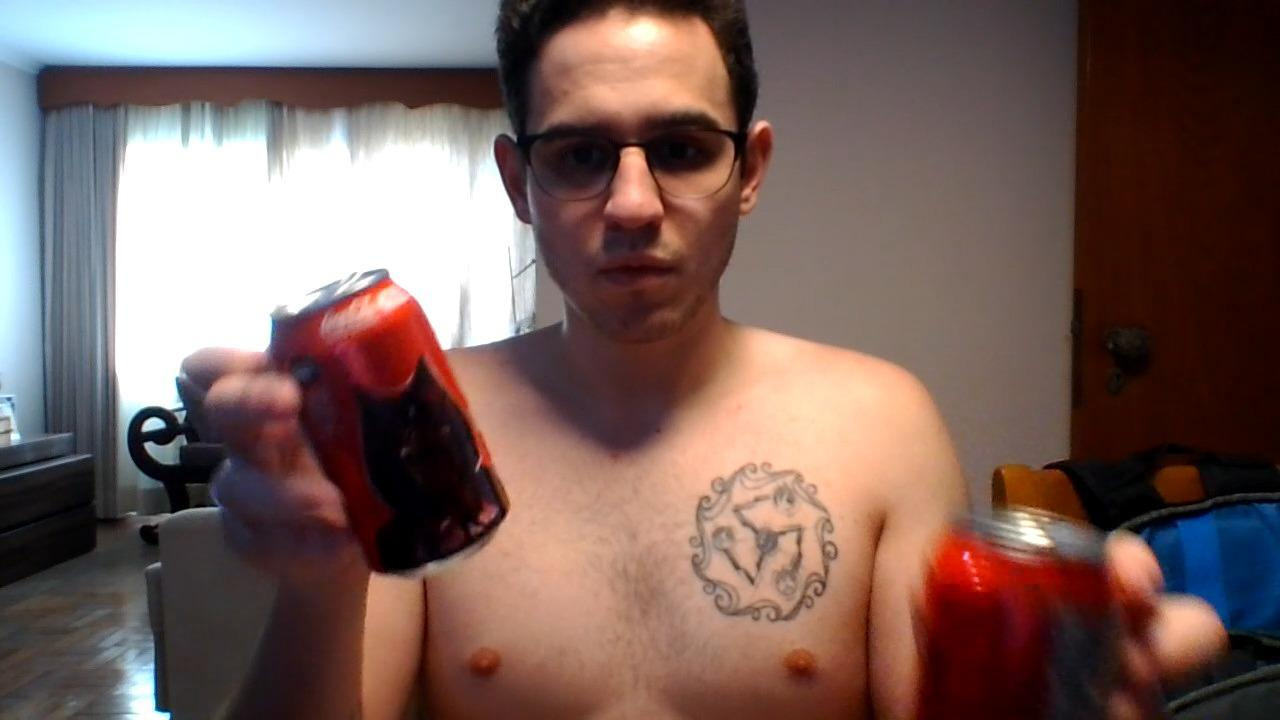coke: (263, 269, 508, 577), (912, 503, 1155, 720)
